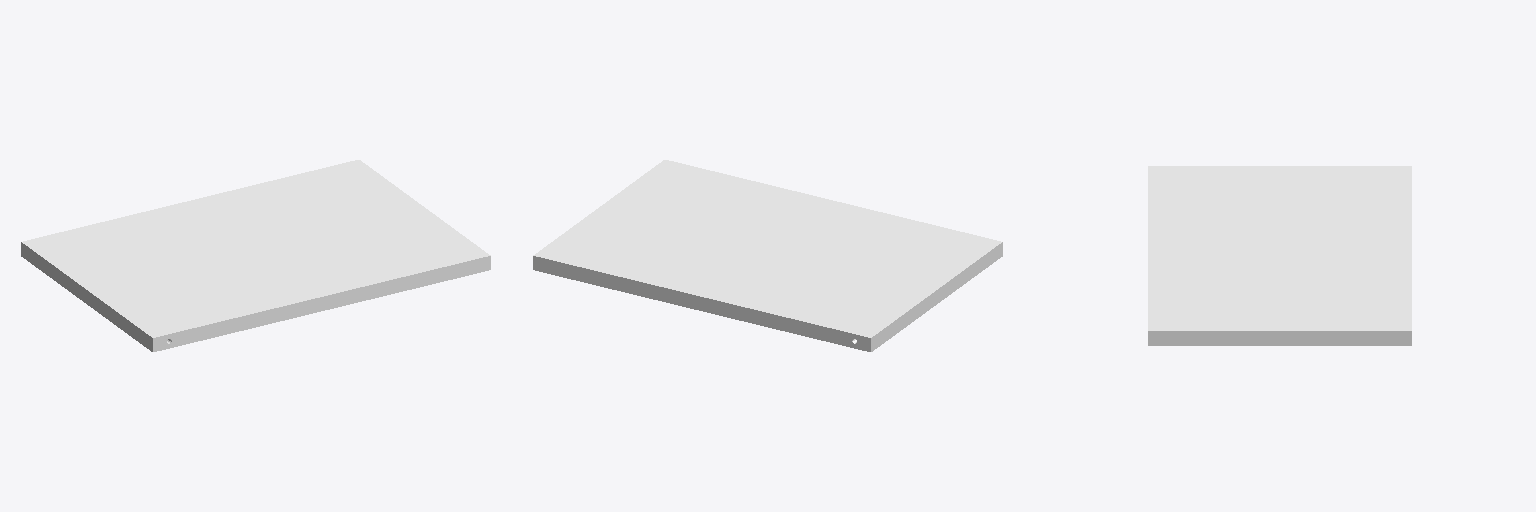
3 views of the same model, side by side, from view 1: azimuth 30°, elevation 25°; view 2: azimuth 150°, elevation 25°; view 3: azimuth 270°, elevation 25° (orthographic).
Parts seen in each view (by area): view 1: obj_[number redacted]; view 2: obj_[number redacted]; view 3: obj_[number redacted].
Part boxes in pixels (bbox=[...]): obj_[number redacted]: bbox=[21, 160, 490, 351]; obj_[number redacted]: bbox=[533, 160, 1002, 351]; obj_[number redacted]: bbox=[1148, 166, 1411, 345].
Size of the model in its own units: 0.367 by 0.015 by 0.2475.